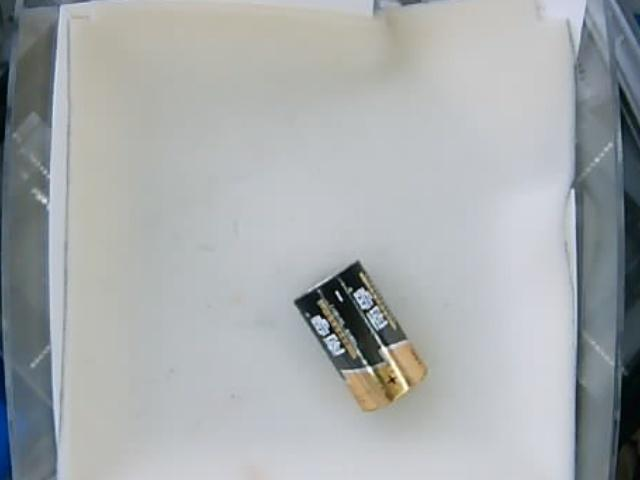Battery: (289, 259, 427, 414)
